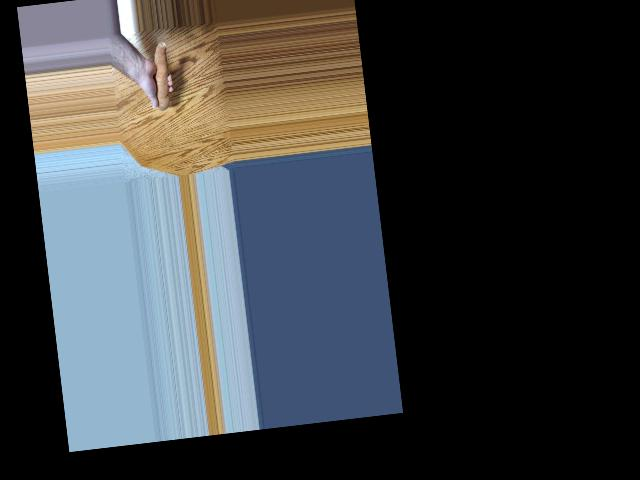sweet_potato: (144, 40, 172, 109)
